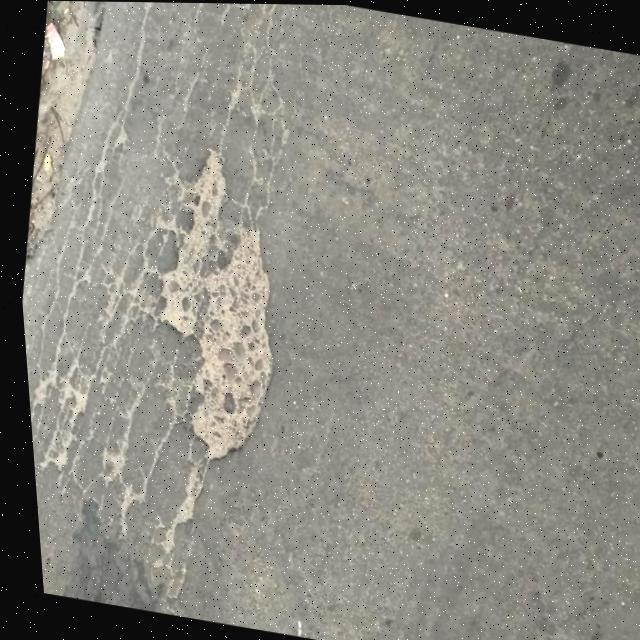pothole: (98, 132, 312, 486)
